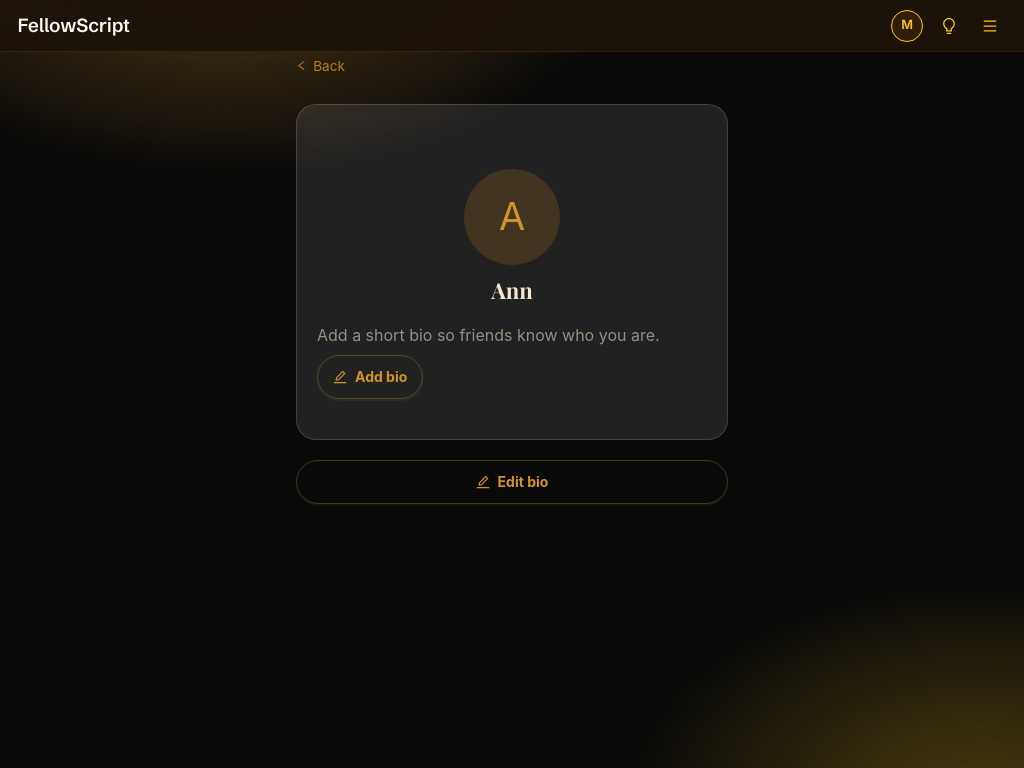
Test: Profile page bio editing › save success shows the stored (normalized) bio and PUTs exactly {bio}
The image size is (1024, 768).
Click the button "Add bio" at coordinates (370, 377), box [317, 355, 423, 399]
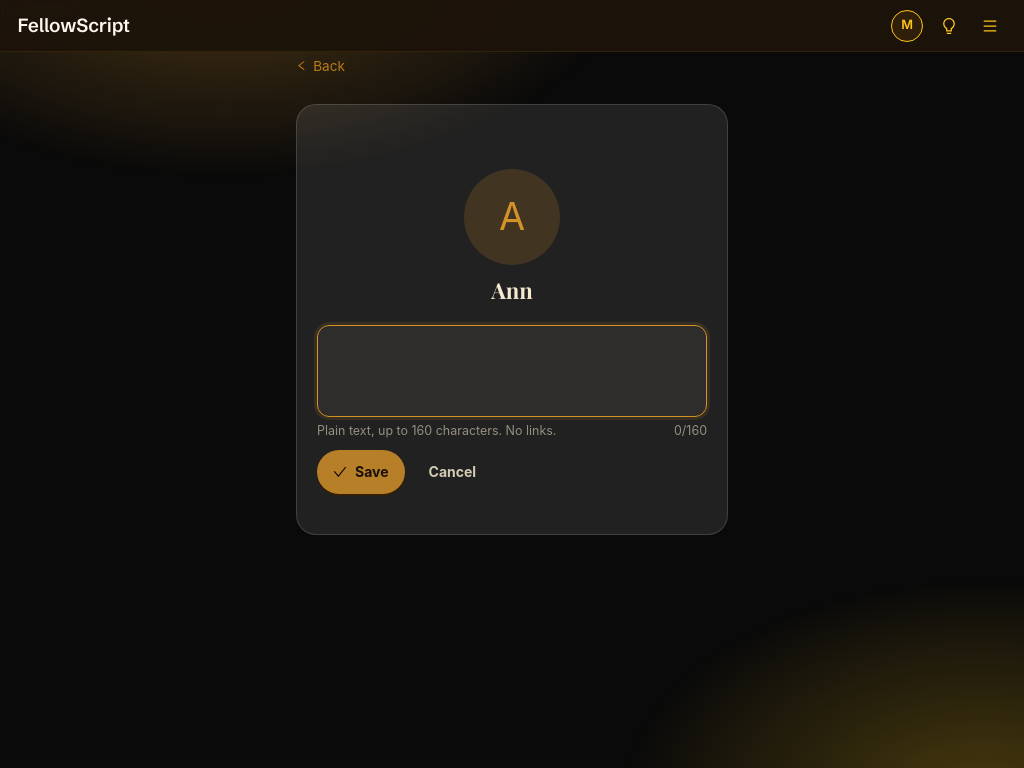
Type "Hello   there" into the text box named "Bio" at coordinates (512, 371), box [317, 325, 707, 417]
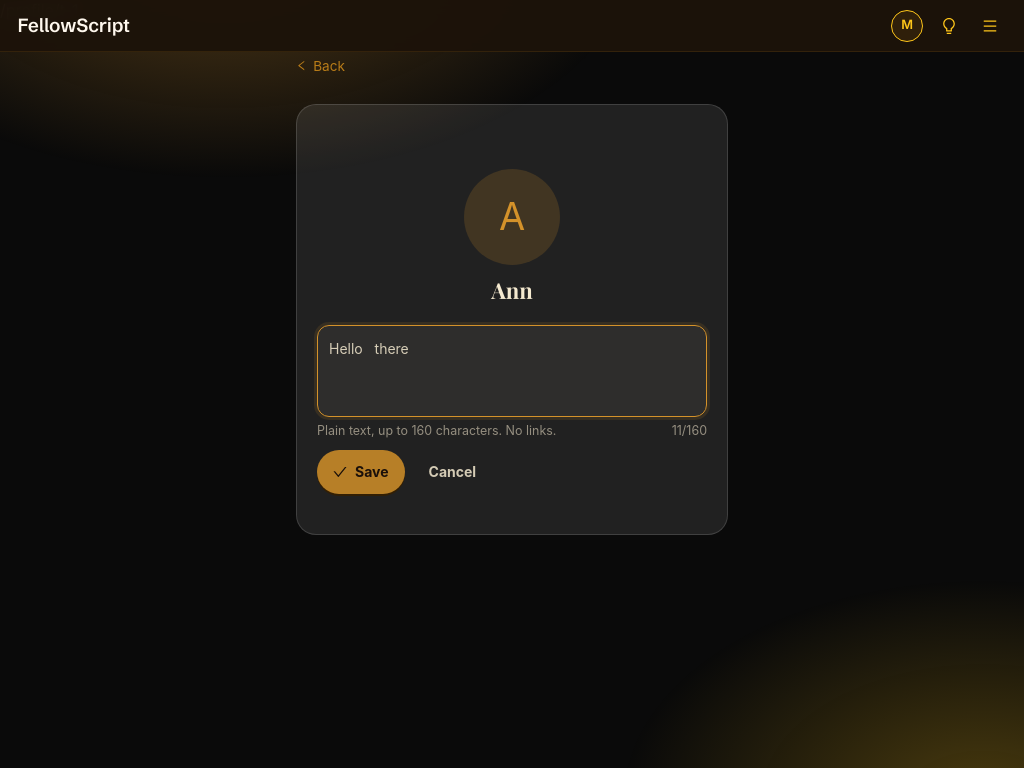
Click the button "Save" at coordinates (361, 472), box [317, 450, 404, 494]
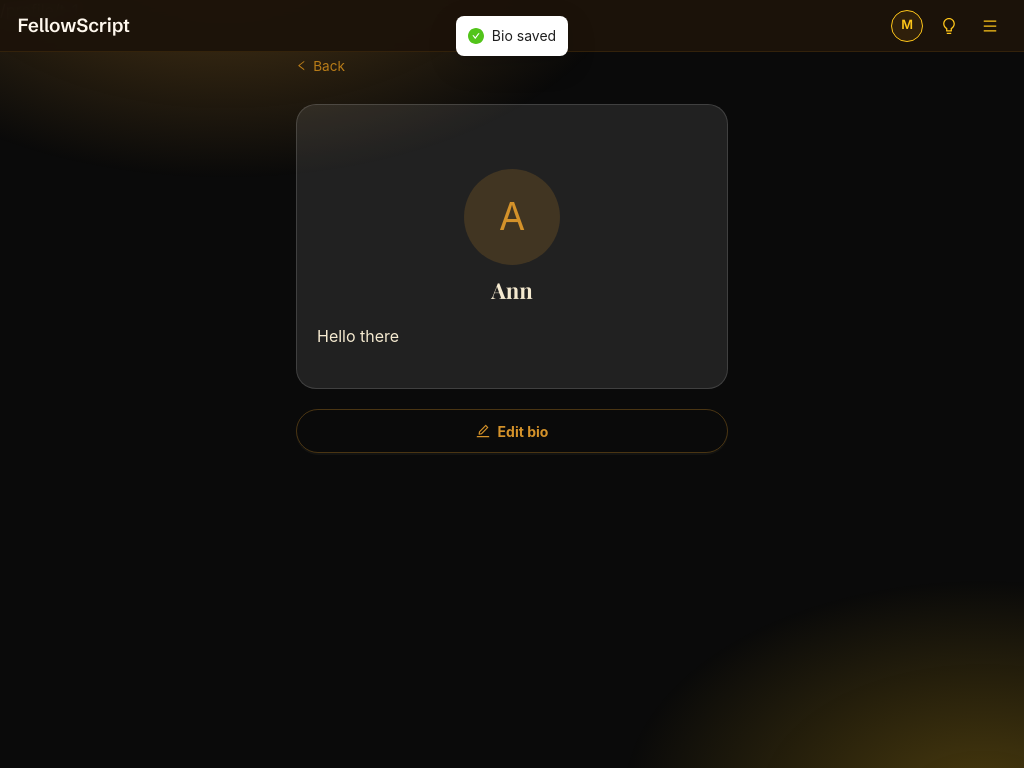
Check: the text "Hello there" is shown, box [317, 326, 399, 346]
